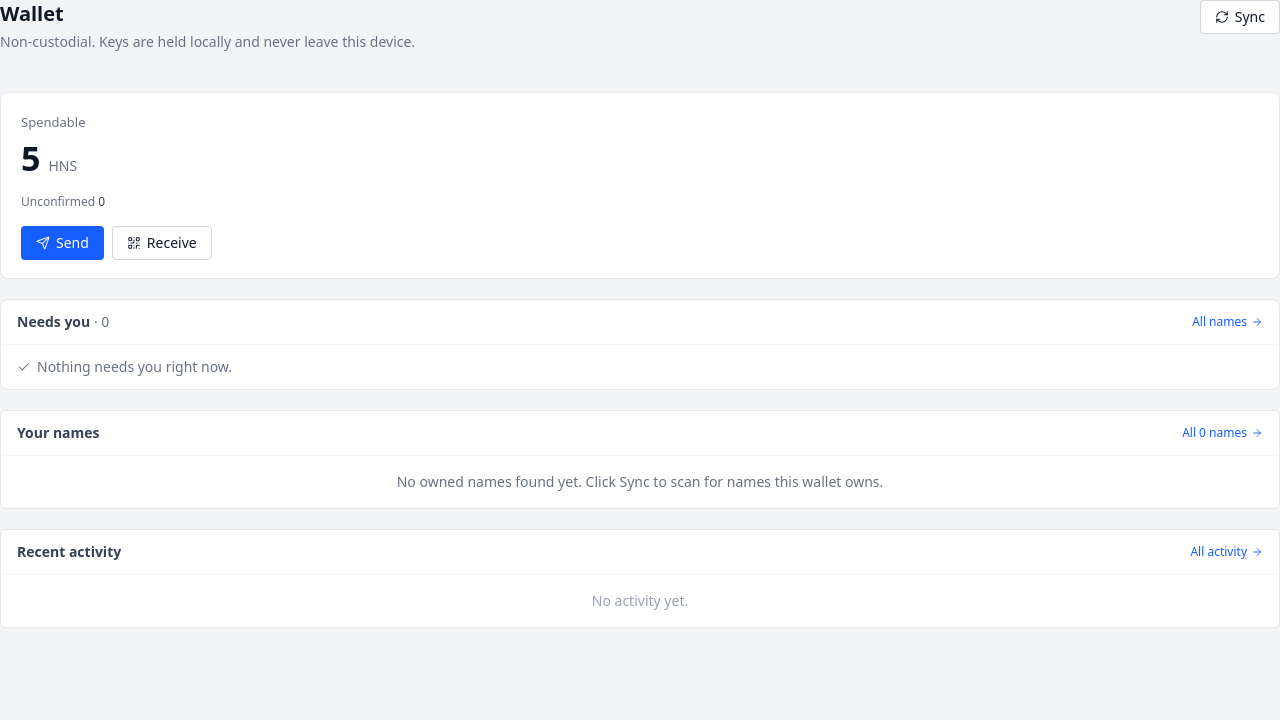
WalletView send flow (asset safety) › on successful broadcast, signs then broadcasts and closes the flow
Check: the button with test id "receive-open" is shown, box [112,226,212,260]
Click the button with test id "wallet-send".
click(62, 242)  # box [21,226,104,260]
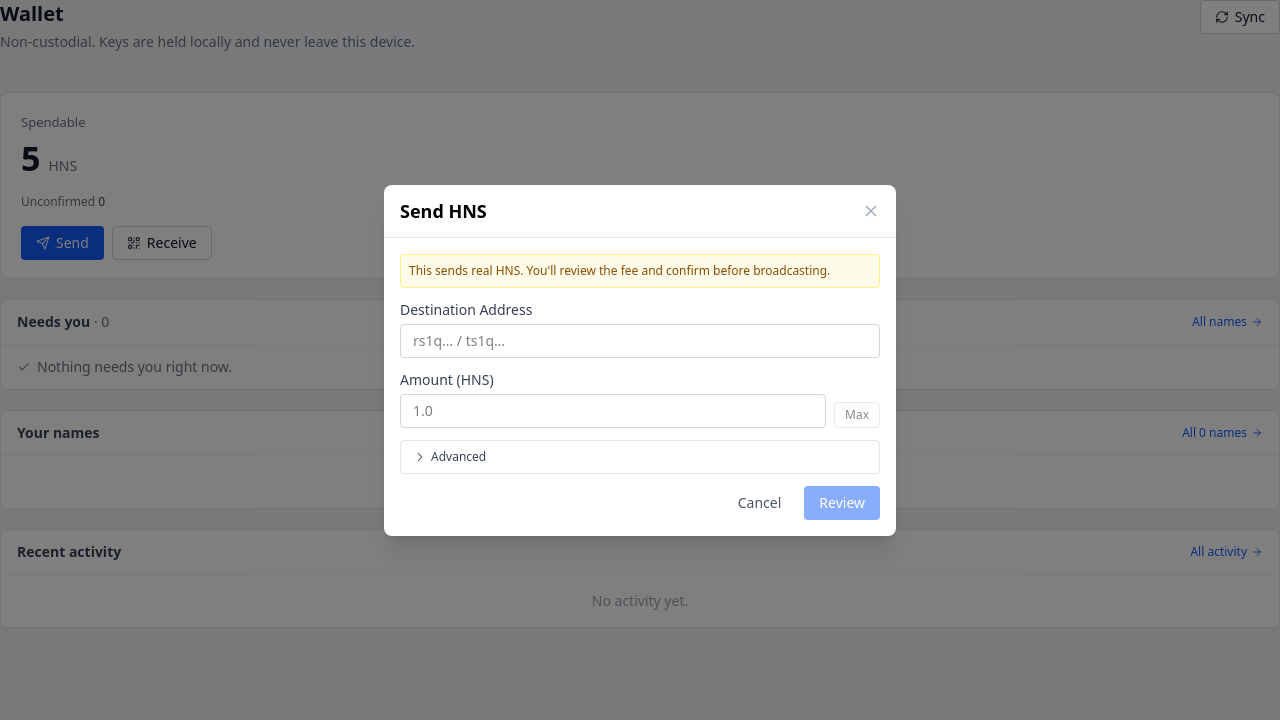
Type "rs1qkc9l7ykllufaxa6yfq47krr5xlcunyqv3svqj2" into the field with placeholder "rs1q… / ts1q…".
click(640, 340); type("rs1qkc9l7ykllufaxa6yfq47krr5xlcunyqv3svqj2")  # box [400,324,880,358]
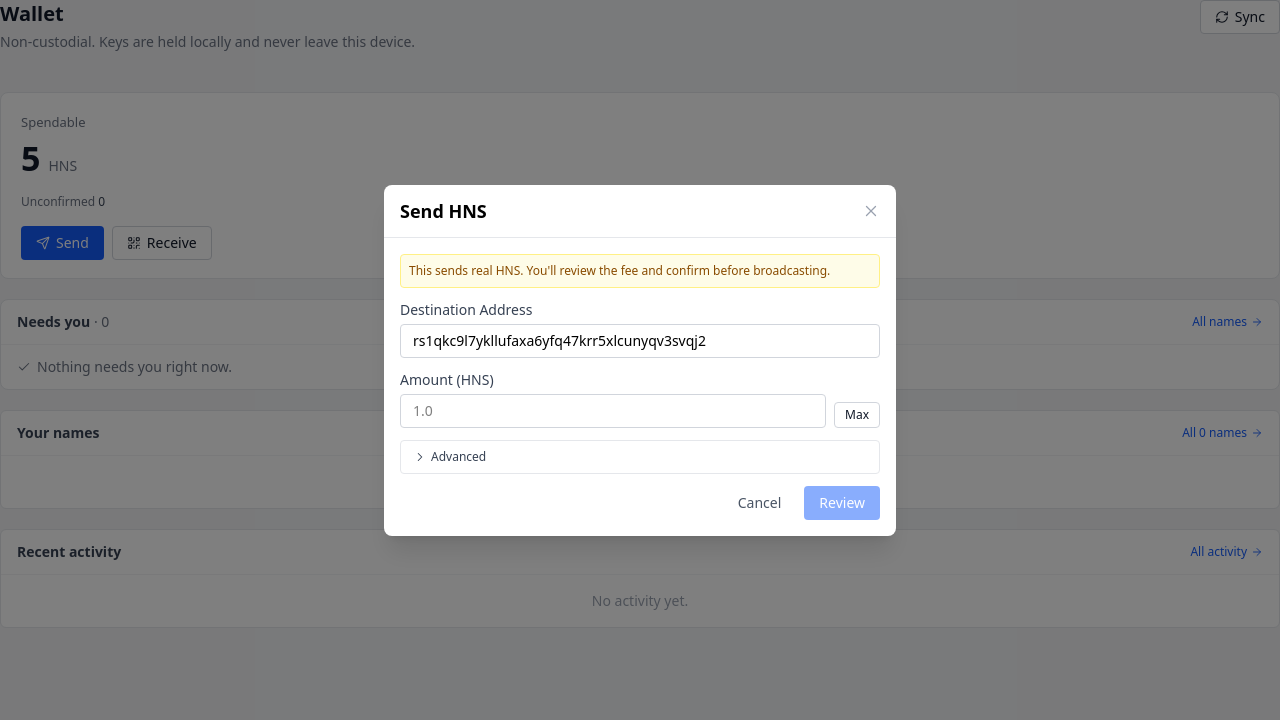
Type "1" into the number field with placeholder "1.0".
click(613, 410); type("1")  # box [400,394,826,428]
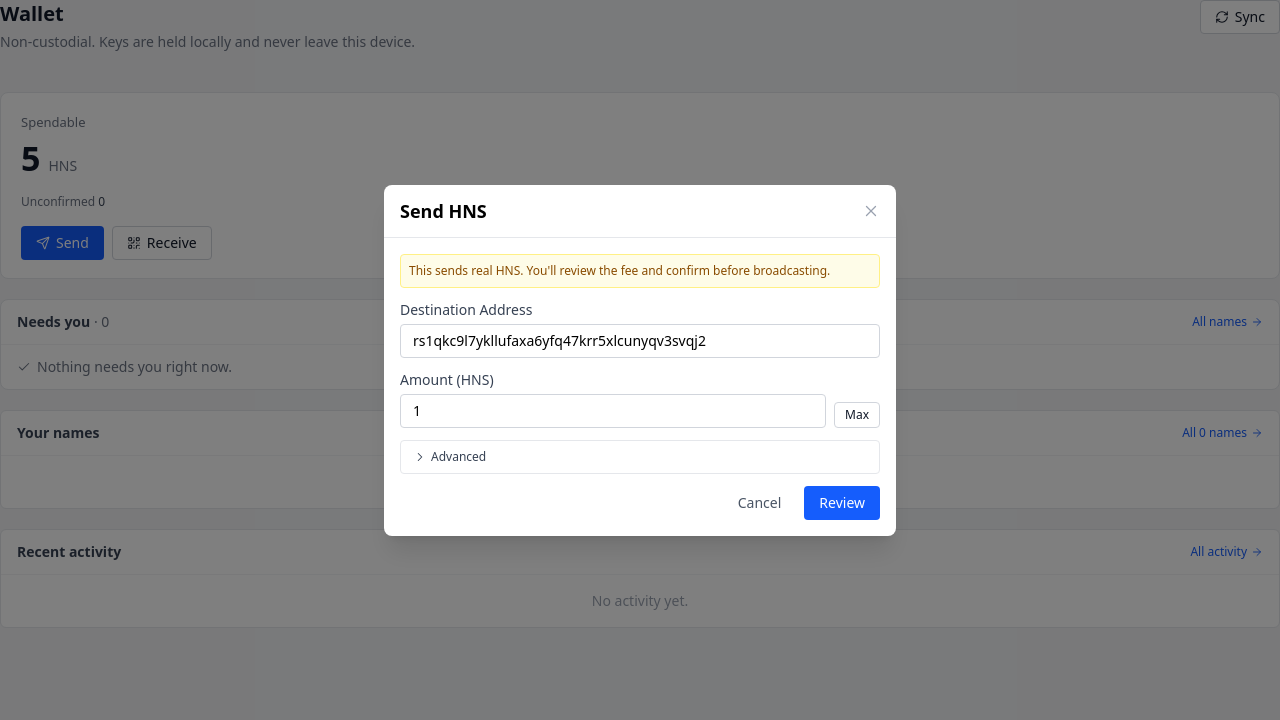
Click the button "Review".
click(842, 502)  # box [804,486,880,520]
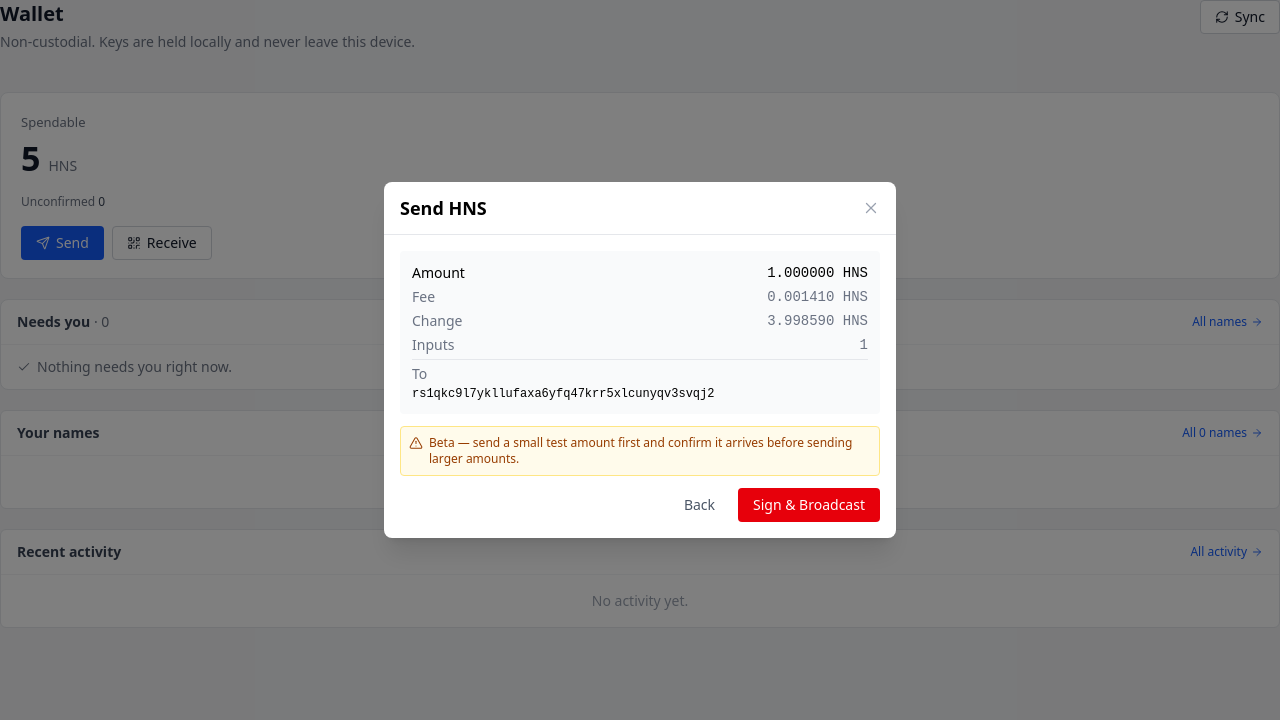
Check: the button "Sign & Broadcast" is shown
Click the button "Sign & Broadcast".
click(809, 505)  # box [738,488,880,522]
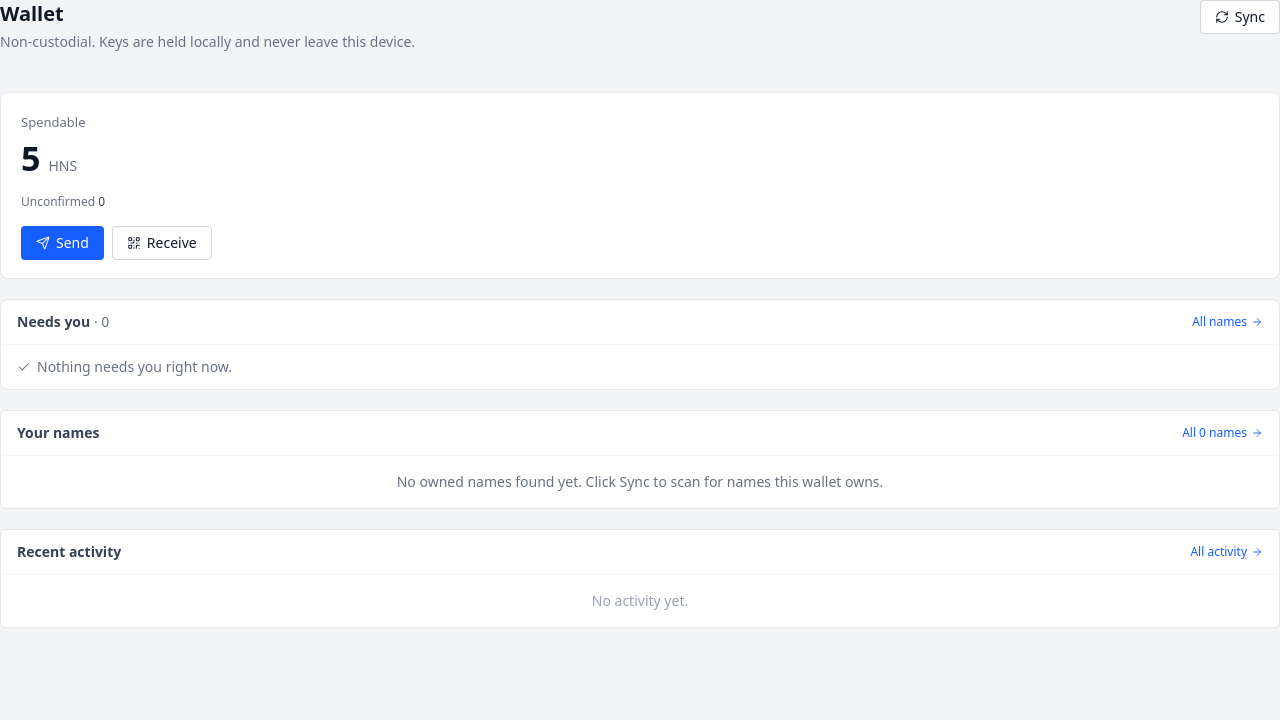
Check: the button "Sign & Broadcast" is gone
